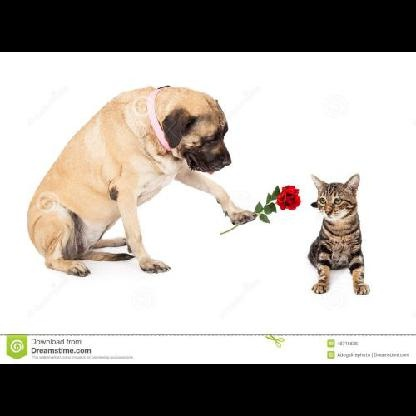狗: (25, 86, 255, 278)
猫: (307, 167, 370, 296)
